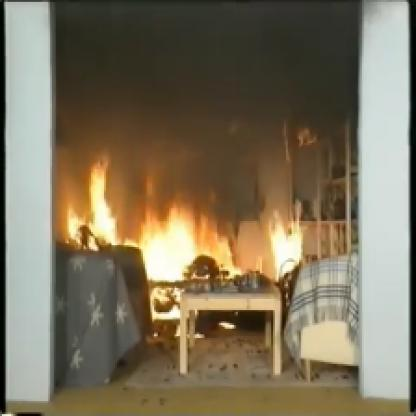fire: (51, 171, 244, 338), (247, 200, 319, 304)
